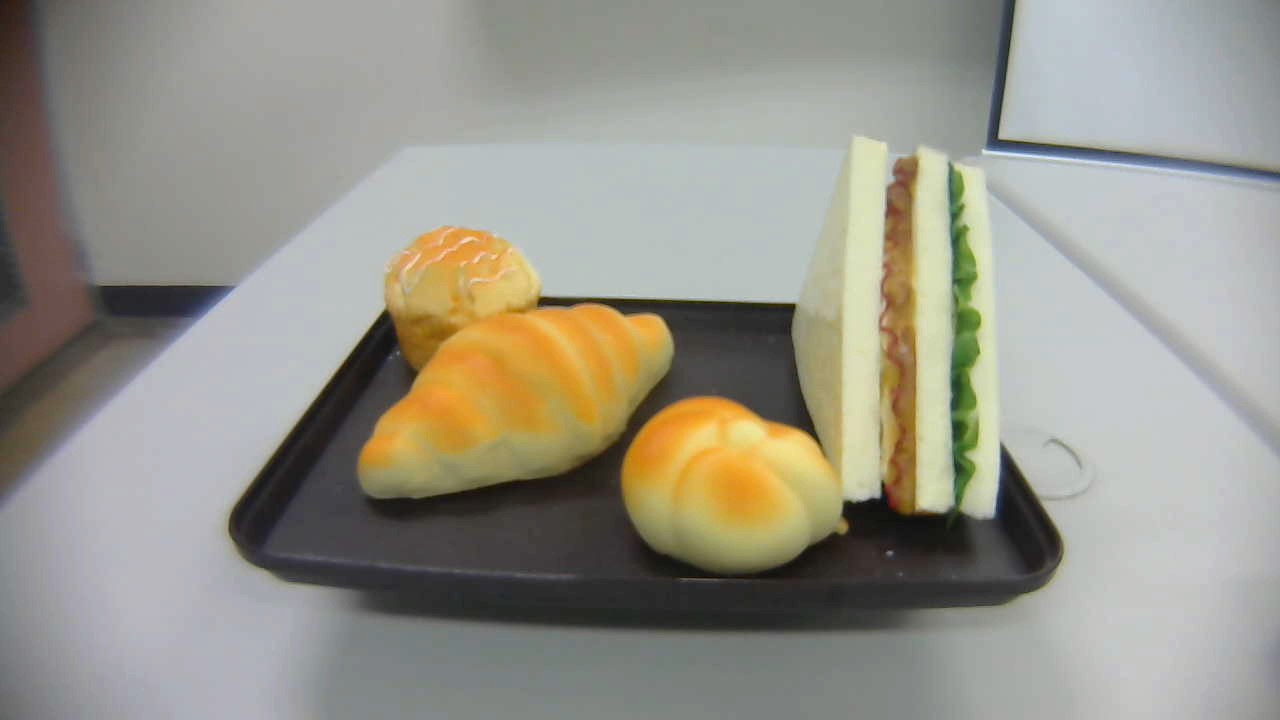croissant: (356, 300, 675, 501)
cupcake: (384, 227, 543, 379)
sandwich: (792, 137, 1000, 519)
twist bread: (619, 394, 850, 577)
